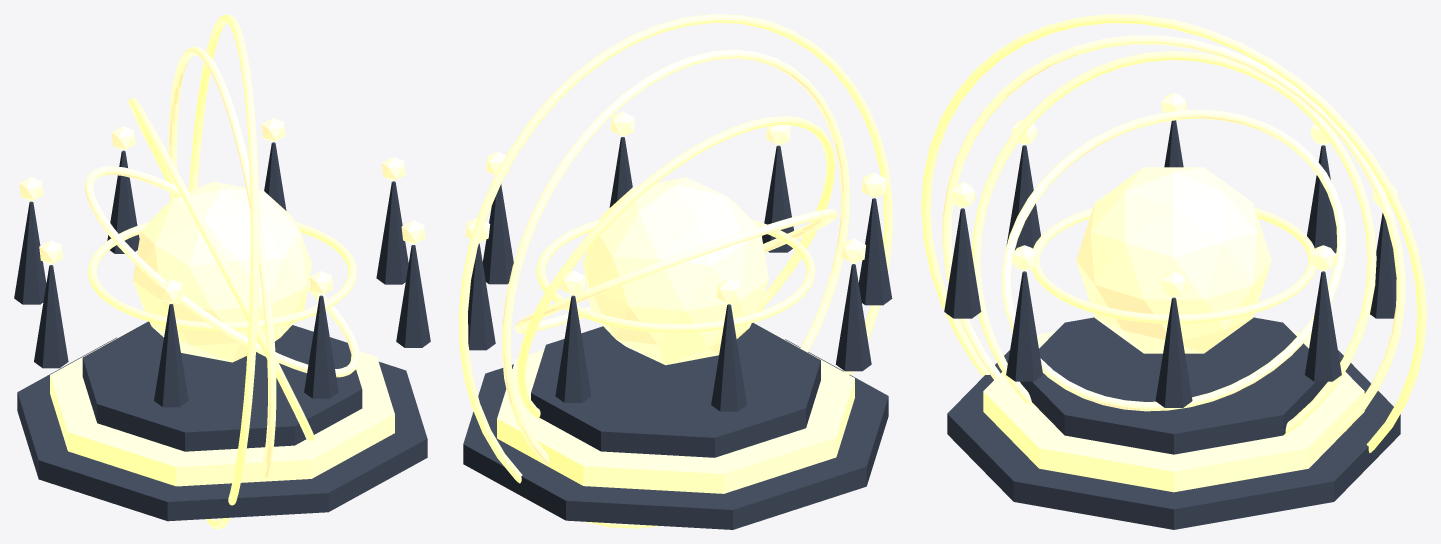
The model's file is gpu-blender-v38.glb.
The picture shows the model from 3 angles, left to right: view 1: azimuth 30°, elevation 25°; view 2: azimuth 150°, elevation 25°; view 3: azimuth 270°, elevation 25°; orthographic projection. The views are drawn at different scales.
Visible parts, largest first — view 1: Cylinder.002, Cylinder, SovereignCore_zothos-lite, Cylinder.001, Torus.004, Torus.003, Torus.001, Torus.002, Torus, Cone.005, Cone.004, Cone.006 (+5 smaller); view 2: Cylinder.002, SovereignCore_zothos-lite, Cylinder, Cylinder.001, Torus.004, Torus.003, Torus.002, Torus.001, Torus, Cone.004, Cone.003, Cone.002 (+5 smaller); view 3: SovereignCore_zothos-lite, Cylinder.002, Cylinder, Cylinder.001, Torus.004, Torus.003, Torus.002, Torus.001, Torus, Cone.006, Cone.001, Cone.007 (+5 smaller).
Boxes of the visible parts, x1,y1,x2,y2 form: Cylinder.002: (82, 321, 362, 451); Cylinder: (17, 337, 427, 521); SovereignCore_zothos-lite: (133, 181, 311, 362); Cylinder.001: (50, 329, 394, 486); Torus.004: (189, 14, 259, 529); Torus.003: (168, 46, 276, 479); Torus.001: (85, 166, 359, 377); Torus.002: (129, 98, 314, 440); Torus: (88, 222, 356, 331); Cone.005: (154, 304, 188, 407); Cone.004: (34, 265, 68, 368); Cone.006: (304, 295, 338, 398); Cylinder.002: (531, 323, 820, 457); SovereignCore_zothos-lite: (583, 177, 768, 365); Cylinder: (463, 339, 888, 529); Cylinder.001: (497, 330, 854, 493); Torus.004: (459, 14, 892, 528); Torus.003: (501, 49, 850, 464); Torus.002: (516, 116, 835, 418); Torus.001: (514, 209, 837, 333); Torus: (536, 219, 815, 332); Cone.004: (835, 264, 871, 371); Cone.003: (711, 304, 746, 411); Cone.002: (555, 295, 591, 402); SovereignCore_zothos-lite: (1076, 167, 1271, 353); Cylinder.002: (1020, 317, 1327, 454); Cylinder: (947, 350, 1400, 529); Cylinder.001: (983, 331, 1364, 492); Torus.004: (921, 14, 1426, 452); Torus.003: (942, 35, 1405, 435); Torus.002: (972, 50, 1376, 434); Torus.001: (1001, 109, 1346, 411); Torus: (1031, 208, 1316, 323); Cone.006: (944, 208, 981, 318); Cone.001: (1305, 271, 1341, 381); Cone.007: (1006, 271, 1042, 381).
Size of the model in its own units: 4.41 by 5.33 by 4.9.
